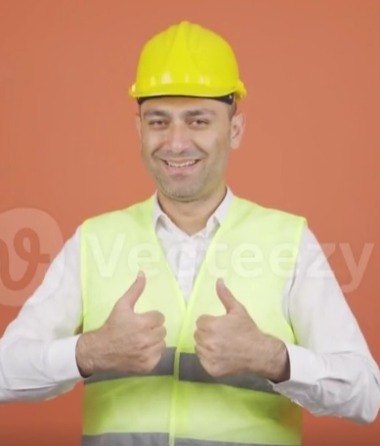safety_helmet: (128, 20, 247, 103)
